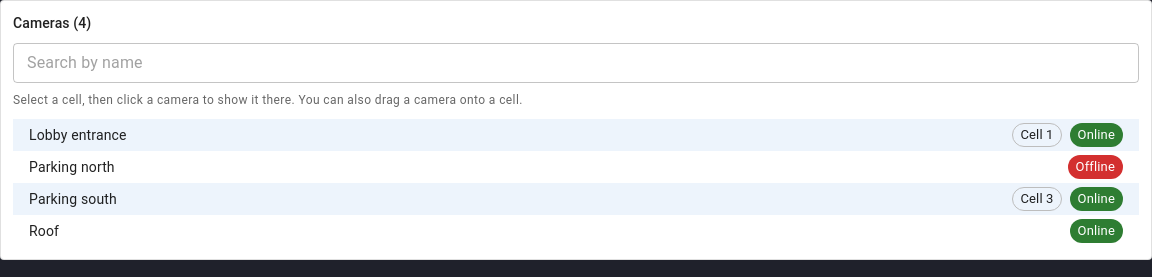
Scenario: GenetecCameraList › filters by name, ignoring case
Type "PARKING" into the field labelled "Search by name" at [576, 63], box [13, 43, 1139, 83]
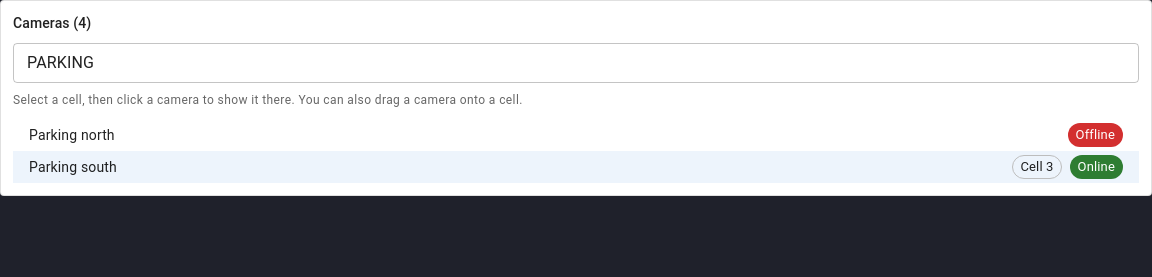
Expected: the number of buttons is 2, [13, 119, 1139, 151]; [13, 151, 1139, 183]
Expected: the button "Roof" is gone
